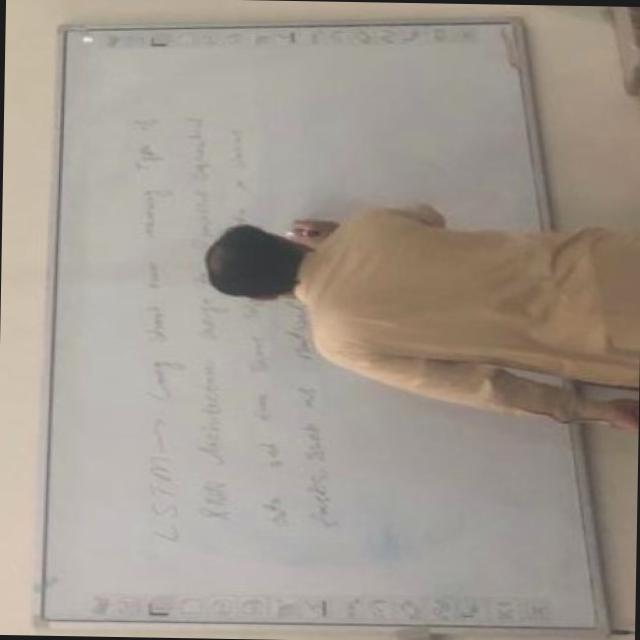Instructor: (191, 209, 636, 389)
White-board: (36, 20, 602, 631)
